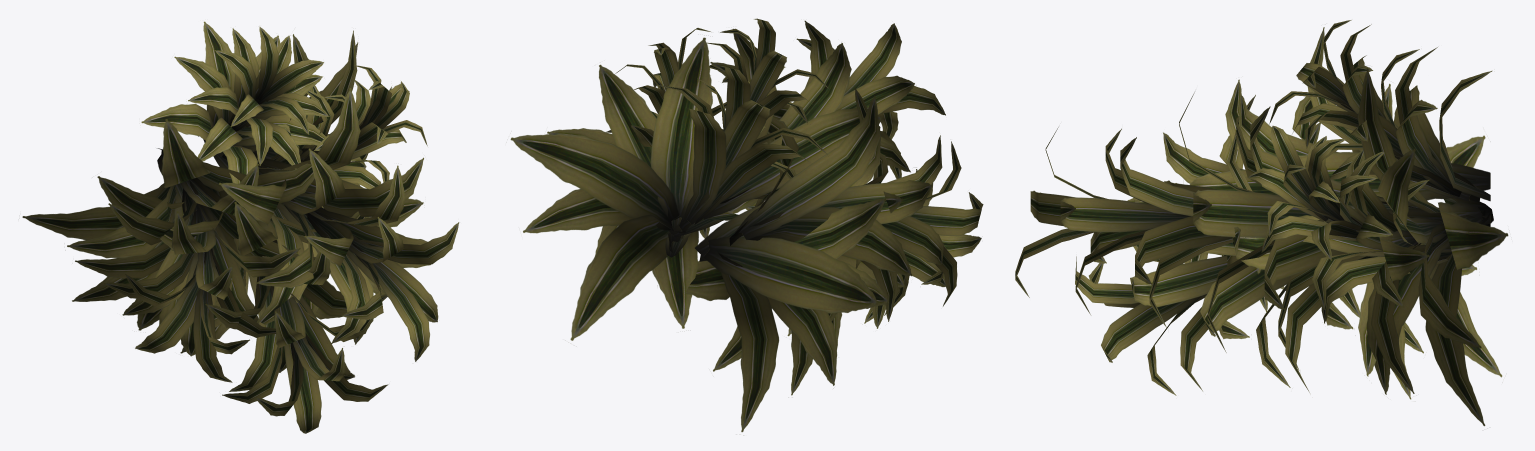
Rendered from Pl_Shrub3.glb.
3 views of the same model, side by side, from view 1: azimuth 30°, elevation 25°; view 2: azimuth 150°, elevation 25°; view 3: azimuth 270°, elevation 25° (orthographic). The views are drawn at different scales.
Parts seen in each view (by area): view 1: trop_shrub_03; view 2: trop_shrub_03; view 3: trop_shrub_03.
Boxes of the visible parts, x1,y1,x2,y2 form: trop_shrub_03: [22, 21, 459, 433]; trop_shrub_03: [510, 18, 983, 432]; trop_shrub_03: [1015, 20, 1508, 426].
Size of the model in its own units: 1.51 by 1.4 by 1.61.
Materials: 1 (1 with a texture image).
